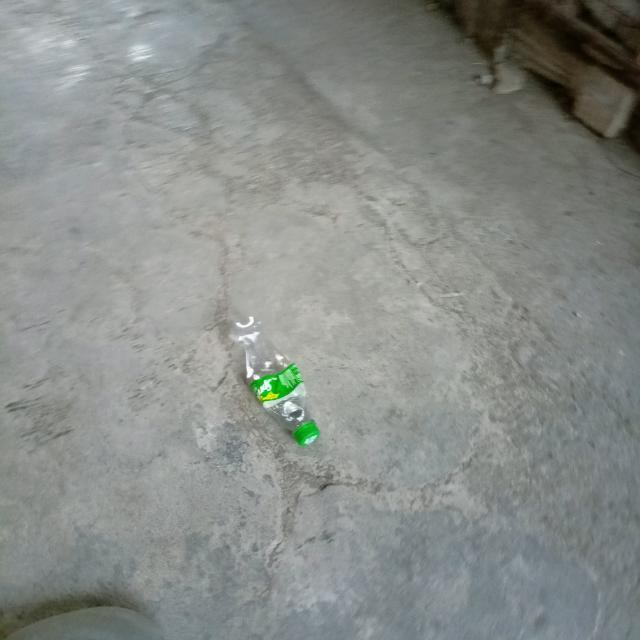Bottle: (235, 316, 320, 446)
